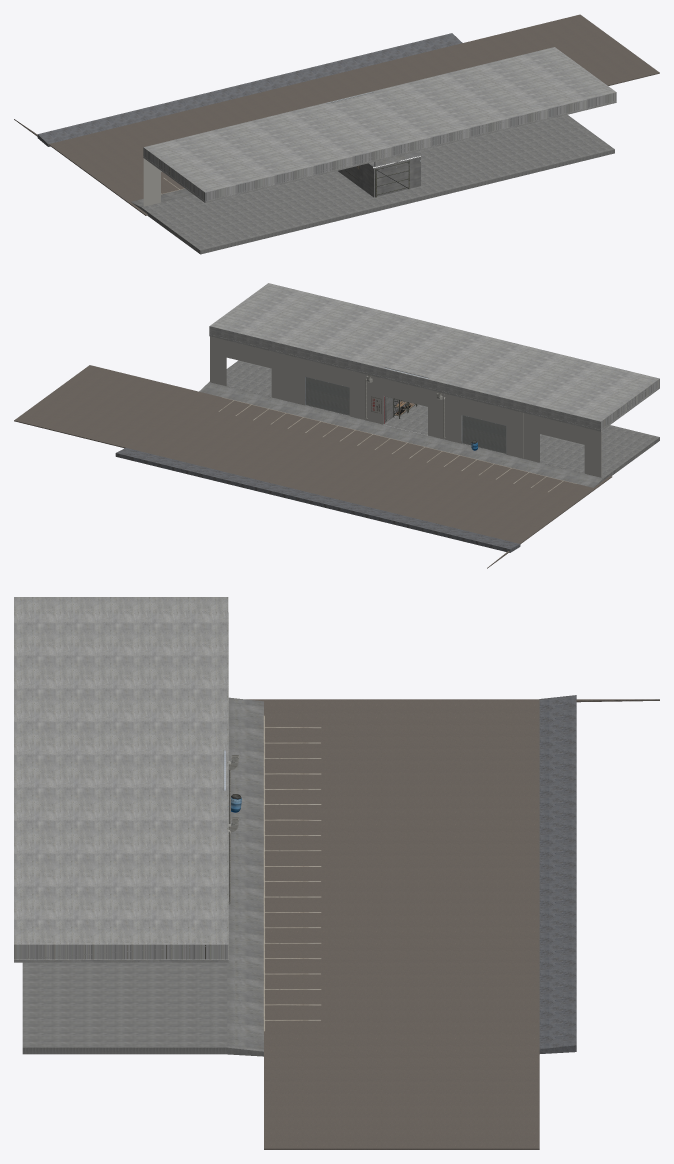
File: garage.glb
The picture shows the model from 3 angles, top to bottom: view 1: azimuth 30°, elevation 25°; view 2: azimuth 150°, elevation 25°; view 3: azimuth 270°, elevation 25°; orthographic projection. The views are drawn at different scales.
Parts seen in each view (by area): view 1: Cube.001, Plane, Plane.001, Plane.011, Cube, Cube.014; view 2: Plane, Cube.001, Cube.014, Plane.001, Plane.002, Plane.011, Plane.024, Plane.022, Plane.006, Cube; view 3: Plane, Cube.001, Plane.001, Plane.011, Plane.002, Plane.006.
Boxes of the visible parts, x1,y1,x2,y2 form: Cube.001: [143, 47, 616, 202]; Plane: [14, 14, 659, 215]; Plane.001: [141, 115, 614, 254]; Plane.011: [37, 33, 462, 146]; Cube: [338, 156, 420, 197]; Cube.014: [143, 158, 161, 206]; Plane: [14, 365, 612, 568]; Cube.001: [209, 283, 659, 431]; Cube.014: [210, 336, 601, 477]; Plane.001: [209, 360, 659, 479]; Plane.002: [199, 382, 603, 487]; Plane.011: [115, 448, 520, 552]; Plane.024: [305, 377, 349, 415]; Plane.022: [462, 415, 505, 453]; Plane.006: [218, 397, 576, 492]; Cube: [383, 394, 601, 477]; Plane: [246, 699, 659, 1149]; Cube.001: [14, 597, 228, 962]; Plane.001: [22, 962, 227, 1054]; Plane.011: [539, 695, 576, 1053]; Plane.002: [227, 697, 263, 1056]; Plane.006: [263, 715, 321, 1031].
Size of the model in its own units: 35.58 by 4.91 by 21.61.
Materials: 42 (34 with a texture image).
